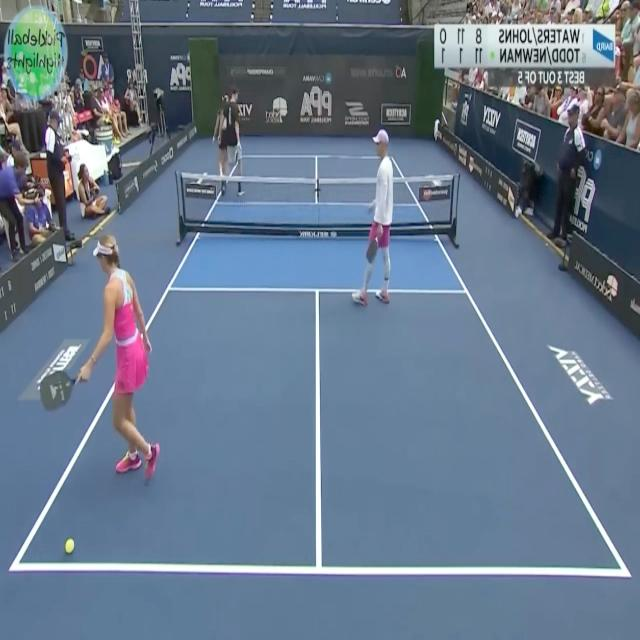Pickleball: (63, 536, 76, 554)
